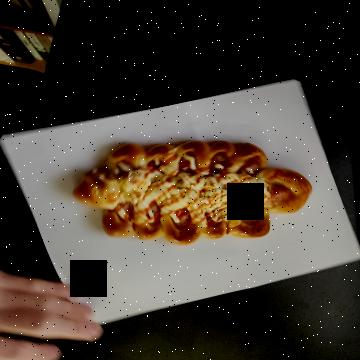pizza_bread: (140, 38, 246, 282)
